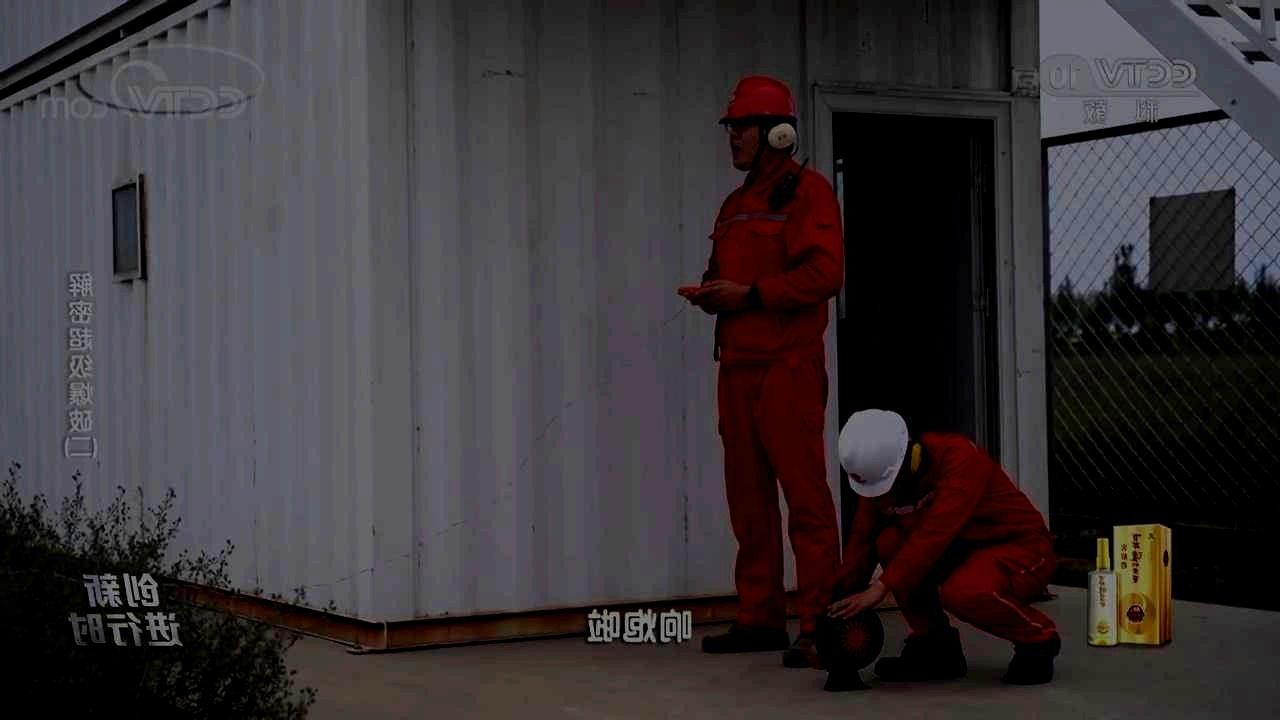helmet: (717, 73, 800, 172), (837, 408, 913, 499)
